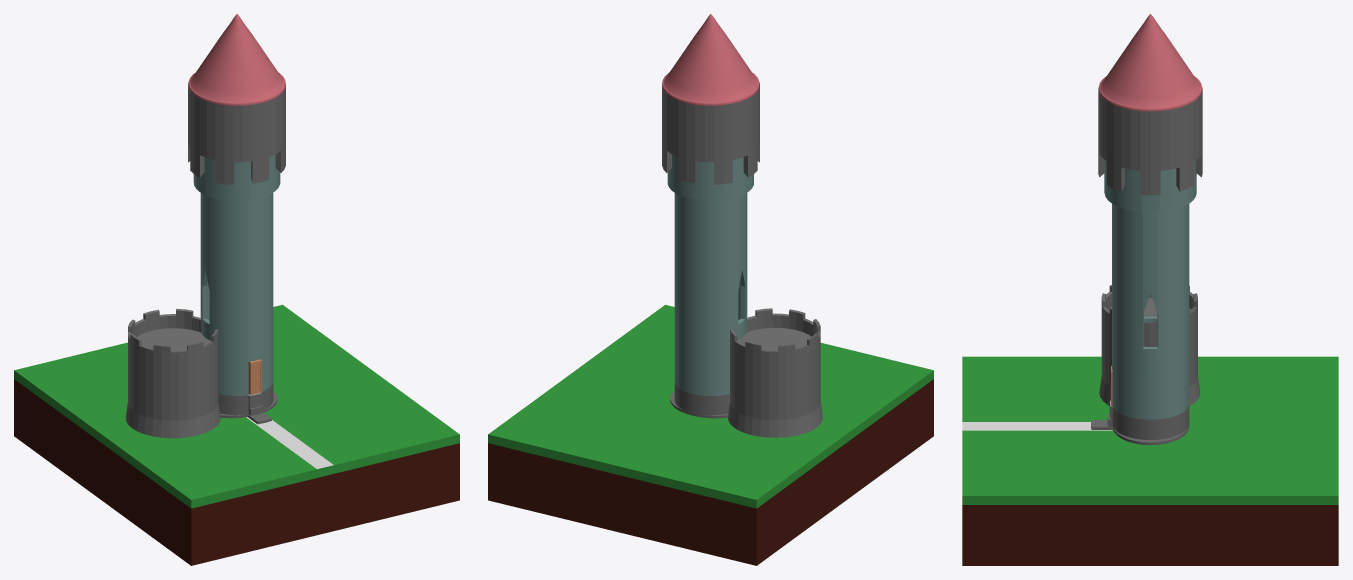
The model's file is wizardsTower_otherversion.fbx.
3 views of the same model, side by side, from view 1: azimuth 30°, elevation 25°; view 2: azimuth 150°, elevation 25°; view 3: azimuth 270°, elevation 25° (orthographic). The views are drawn at different scales.
Parts seen in each view (by area): view 1: GrassLand, TowerBase, LowerTower, UpperTower, Roof01; view 2: GrassLand, TowerBase, LowerTower, UpperTower, Roof01; view 3: GrassLand, TowerBase, UpperTower, Roof01, LowerTower.
Boxes of the visible parts, box(x1,y1,x2,y2) form: GrassLand: box(14, 304, 459, 565); TowerBase: box(193, 154, 280, 424); LowerTower: box(125, 308, 220, 438); UpperTower: box(188, 82, 285, 184); Roof01: box(188, 14, 285, 105); GrassLand: box(488, 304, 933, 565); TowerBase: box(667, 154, 753, 418); LowerTower: box(728, 308, 822, 437); UpperTower: box(662, 82, 759, 184); Roof01: box(662, 14, 759, 105); GrassLand: box(962, 356, 1338, 565); TowerBase: box(1091, 160, 1196, 445); UpperTower: box(1098, 88, 1202, 195); Roof01: box(1098, 14, 1202, 111); LowerTower: box(1099, 285, 1200, 405).
Bounding box in the file's own units: 852 × 1376 × 973.
